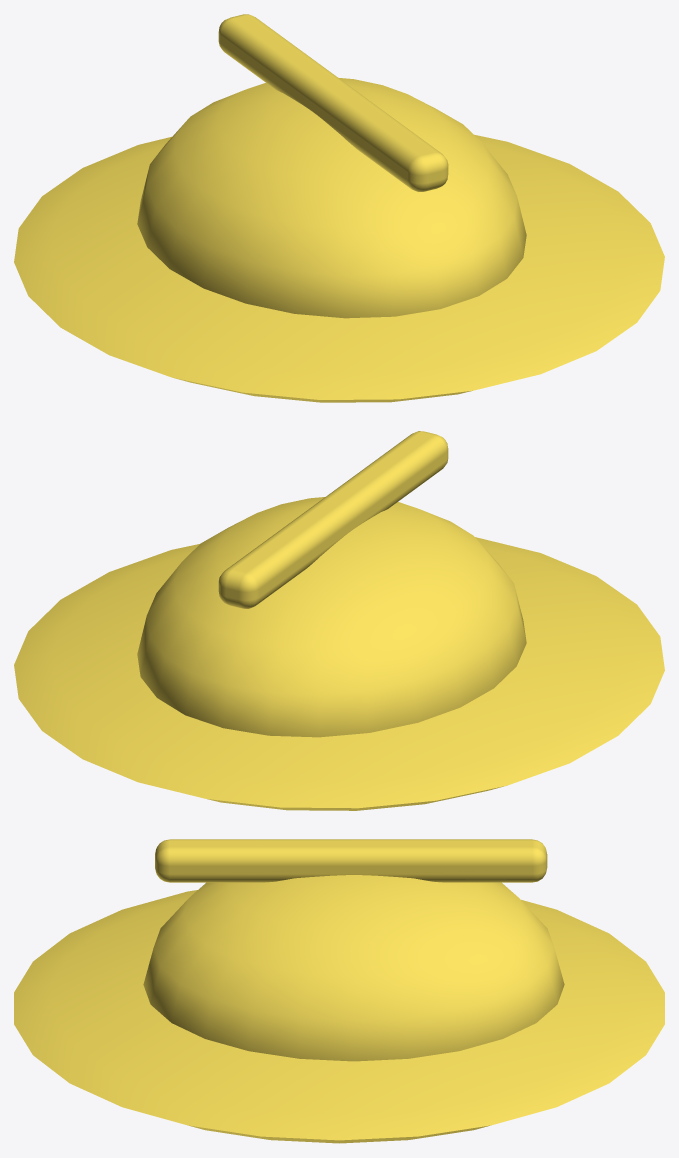
Rendered from hat_hard.glb.
3 renders of one model, top to bottom at view 1: azimuth 30°, elevation 25°; view 2: azimuth 150°, elevation 25°; view 3: azimuth 270°, elevation 25°, orthographic. The views are drawn at different scales.
Parts seen in each view (by area): view 1: Hat; view 2: Hat; view 3: Hat.
Boxes of the visible parts, <box> form: Hat: <box>14,14,664,402</box>; Hat: <box>14,431,664,810</box>; Hat: <box>14,839,664,1143</box>.
Bounding box in the file's own units: 0.43 × 0.139 × 0.4482.
